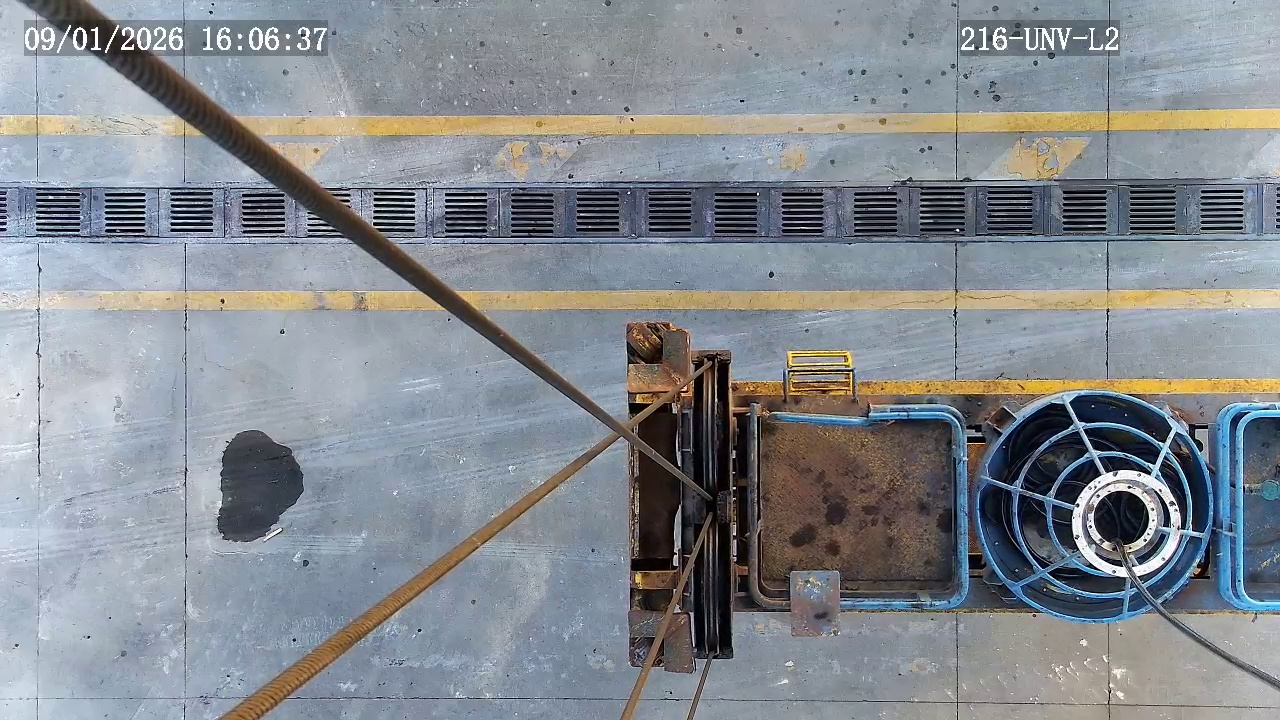left: (1073, 469, 1181, 578)
